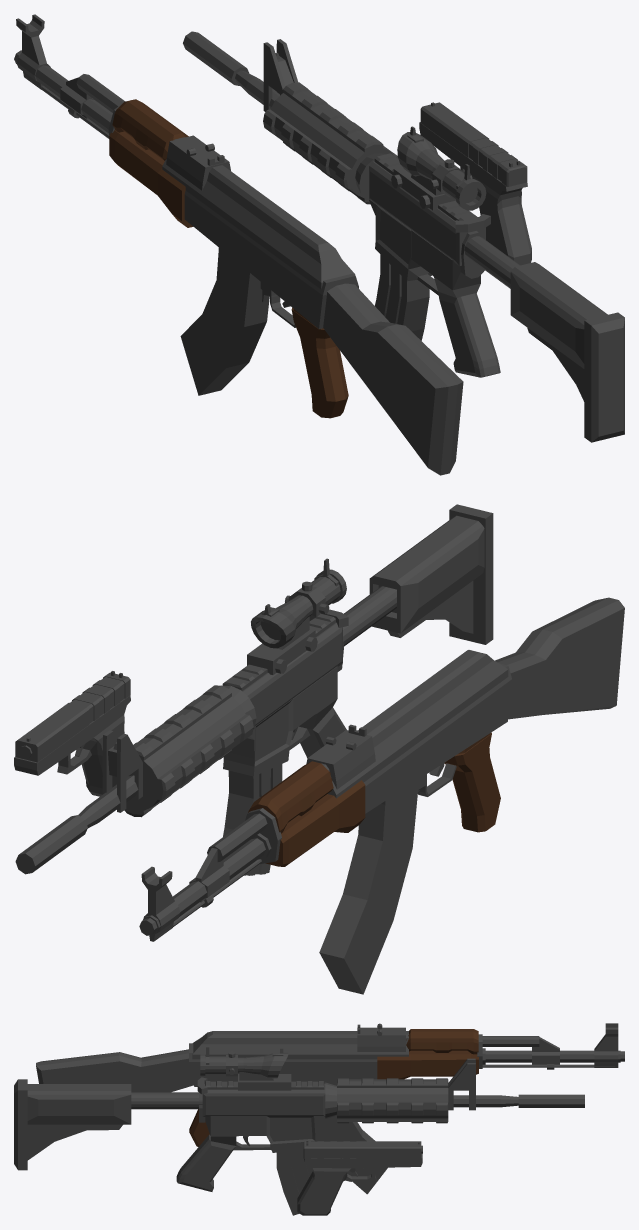
The model's file is weapons.fbx.
3 renders of one model, top to bottom at view 1: azimuth 30°, elevation 25°; view 2: azimuth 150°, elevation 25°; view 3: azimuth 270°, elevation 25°, orthographic. The views are drawn at different scales.
Parts seen in each view (by area): view 1: Cube, Cube.001, Cube.002, Cylinder; view 2: Cube, Cube.001, Cube.002, Cylinder; view 3: Cube.001, Cube, Cube.002, Cylinder.
Part boxes in pixels (box(x1,y1,x2,y2)): Cube: box(14, 14, 463, 475); Cube.001: box(183, 31, 624, 442); Cube.002: box(419, 102, 531, 265); Cylinder: box(391, 126, 486, 210); Cube: box(139, 597, 624, 994); Cube.001: box(15, 504, 493, 875); Cube.002: box(14, 671, 130, 796); Cylinder: box(247, 558, 346, 674); Cube.001: box(14, 1058, 584, 1215); Cube: box(36, 1023, 624, 1194); Cube.002: box(297, 1140, 422, 1215); Cylinder: box(200, 1046, 291, 1090).
Bounding box in the file's own units: 345 × 314 × 913.
